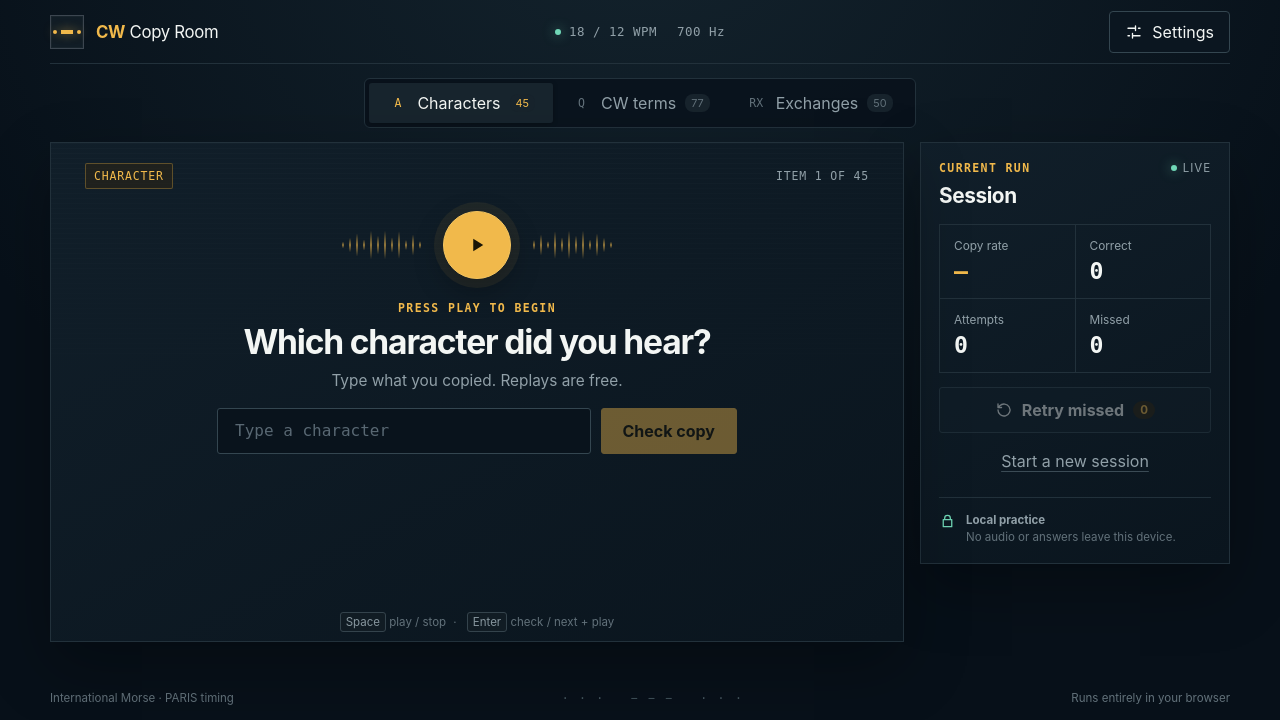
it: App › switches mode and starts a fresh session
Click the tab "Q CW terms 77": (640, 103) [553,83,728,123]
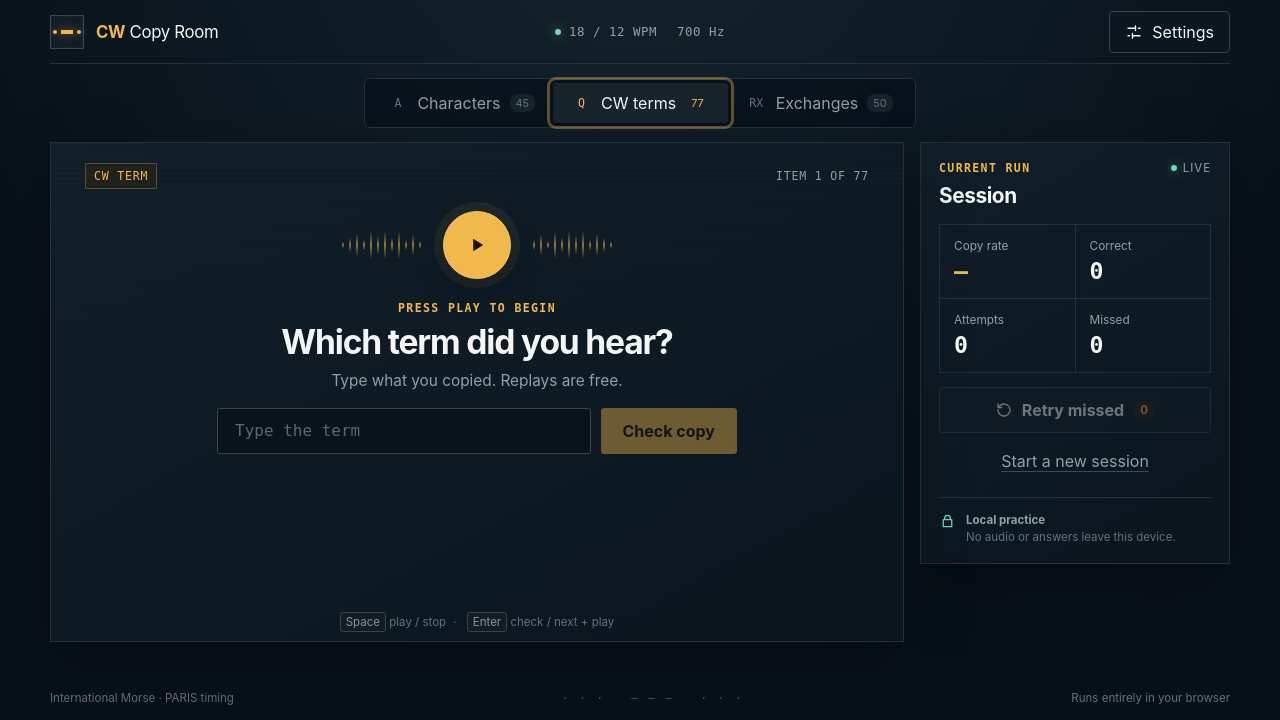
Expected: the text "0" below "Attempts" is shown, [954,331,968,358]
Now the heading "Which term did you hear?" is shown, box [281,321,673,362]
